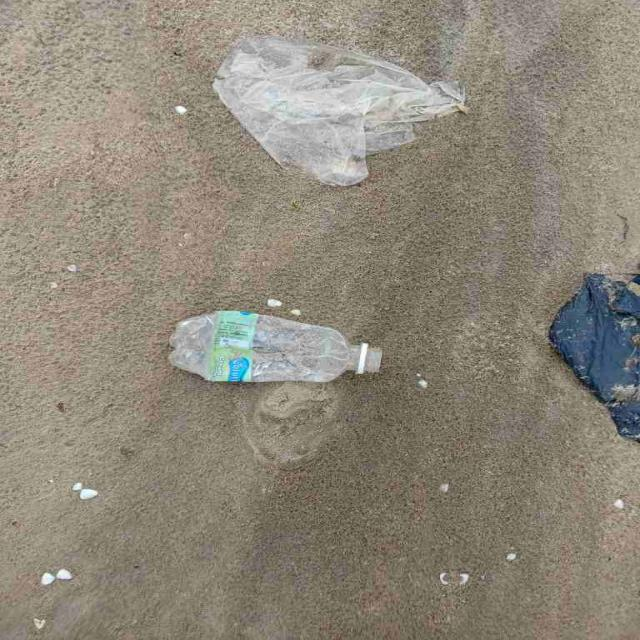plastic: (213, 36, 464, 185), (551, 274, 640, 440), (172, 312, 381, 382)
